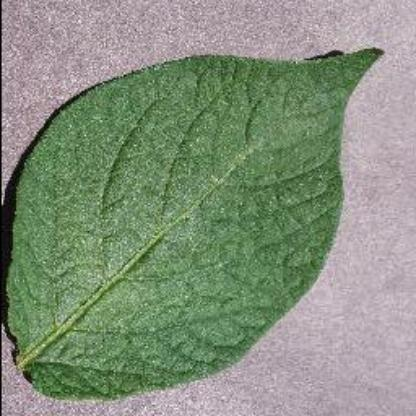Healthy-plant: (0, 34, 388, 406)
